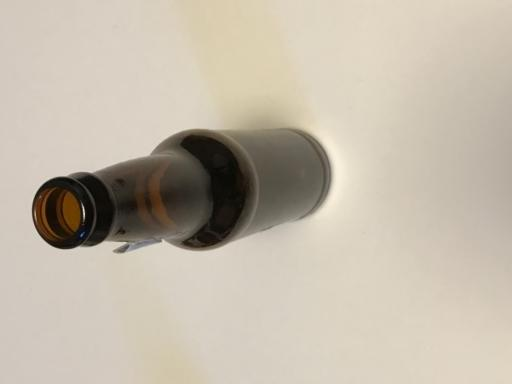botolkaca: (33, 128, 332, 252)
